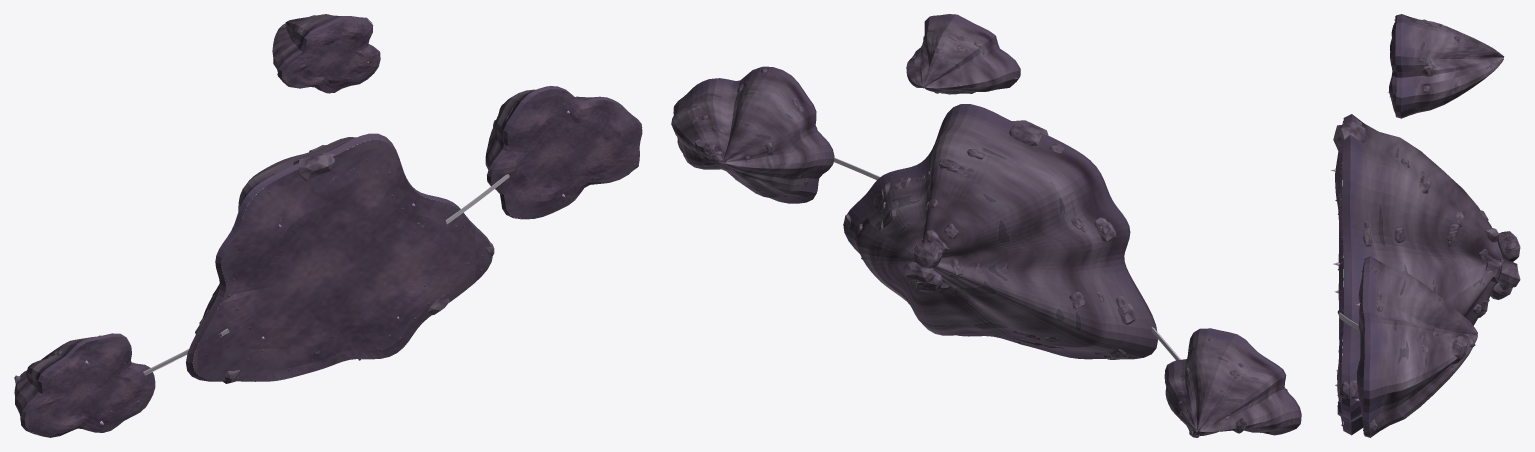
Rendered from Auralia_Umbrael_Islas_Flotantes_v6.glb.
3 renders of one model, left to right at view 1: azimuth 30°, elevation 25°; view 2: azimuth 150°, elevation 25°; view 3: azimuth 270°, elevation 25°, orthographic. The views are drawn at different scales.
Visible parts, largest first — view 1: UMBRAEL_FORTRESS_MAIN_GRASS_TOP, UMBRAEL_EXILE_VILLAGE_GRASS_TOP, UMBRAEL_RITUAL_SHARD_GRASS_TOP, UMBRAEL_FORTRESS_MAIN_ROCK_UNDERBELLY, UMBRAEL_VOID_SHARD_GRASS_TOP, UMBRAEL_RITUAL_SHARD_ROCK_UNDERBELLY, UMBRAEL_EXILE_VILLAGE_ROCK_UNDERBELLY, UMBRAEL_VOID_SHARD_ROCK_UNDERBELLY; view 2: UMBRAEL_FORTRESS_MAIN_ROCK_UNDERBELLY, UMBRAEL_EXILE_VILLAGE_ROCK_UNDERBELLY, UMBRAEL_RITUAL_SHARD_ROCK_UNDERBELLY, UMBRAEL_VOID_SHARD_ROCK_UNDERBELLY; view 3: UMBRAEL_FORTRESS_MAIN_ROCK_UNDERBELLY, UMBRAEL_EXILE_VILLAGE_ROCK_UNDERBELLY, UMBRAEL_VOID_SHARD_ROCK_UNDERBELLY, UMBRAEL_FORTRESS_MAIN_GRASS_TOP, UMBRAEL_EXILE_VILLAGE_GRASS_TOP, UMBRAEL_VOID_SHARD_GRASS_TOP, UMBRAEL_RIM_MOSS_SHRUBS.
Boxes of the visible parts, x1,y1,x2,y2 form: UMBRAEL_FORTRESS_MAIN_GRASS_TOP: (192,140,492,381); UMBRAEL_EXILE_VILLAGE_GRASS_TOP: (491,89,642,219); UMBRAEL_RITUAL_SHARD_GRASS_TOP: (24,336,155,437); UMBRAEL_FORTRESS_MAIN_ROCK_UNDERBELLY: (186,133,494,383); UMBRAEL_VOID_SHARD_GRASS_TOP: (282,18,380,93); UMBRAEL_RITUAL_SHARD_ROCK_UNDERBELLY: (14,333,150,435); UMBRAEL_EXILE_VILLAGE_ROCK_UNDERBELLY: (485,86,642,219); UMBRAEL_VOID_SHARD_ROCK_UNDERBELLY: (272,14,380,92); UMBRAEL_FORTRESS_MAIN_ROCK_UNDERBELLY: (843,104,1157,359); UMBRAEL_EXILE_VILLAGE_ROCK_UNDERBELLY: (671,66,834,203); UMBRAEL_RITUAL_SHARD_ROCK_UNDERBELLY: (1164,328,1301,437); UMBRAEL_VOID_SHARD_ROCK_UNDERBELLY: (906,14,1020,94); UMBRAEL_FORTRESS_MAIN_ROCK_UNDERBELLY: (1333,114,1520,435); UMBRAEL_EXILE_VILLAGE_ROCK_UNDERBELLY: (1357,256,1477,437); UMBRAEL_VOID_SHARD_ROCK_UNDERBELLY: (1392,14,1504,118); UMBRAEL_FORTRESS_MAIN_GRASS_TOP: (1335,118,1343,430); UMBRAEL_EXILE_VILLAGE_GRASS_TOP: (1357,262,1364,420); UMBRAEL_VOID_SHARD_GRASS_TOP: (1389,15,1397,112); UMBRAEL_RIM_MOSS_SHRUBS: (1335,19,1395,430).
Size of the model in its own units: 1459 by 792 by 326.
4 materials, 2 textured.
